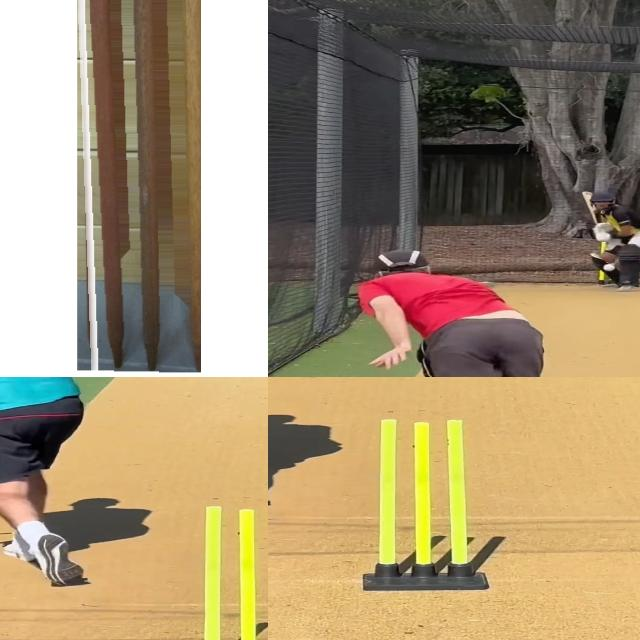Cricket ball: (602, 262, 617, 272)
Stumps: (69, 0, 201, 372), (362, 416, 492, 590), (187, 506, 268, 640)
